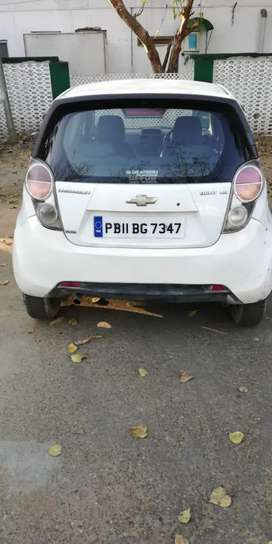PB11BG7347: (94, 214, 187, 239)
